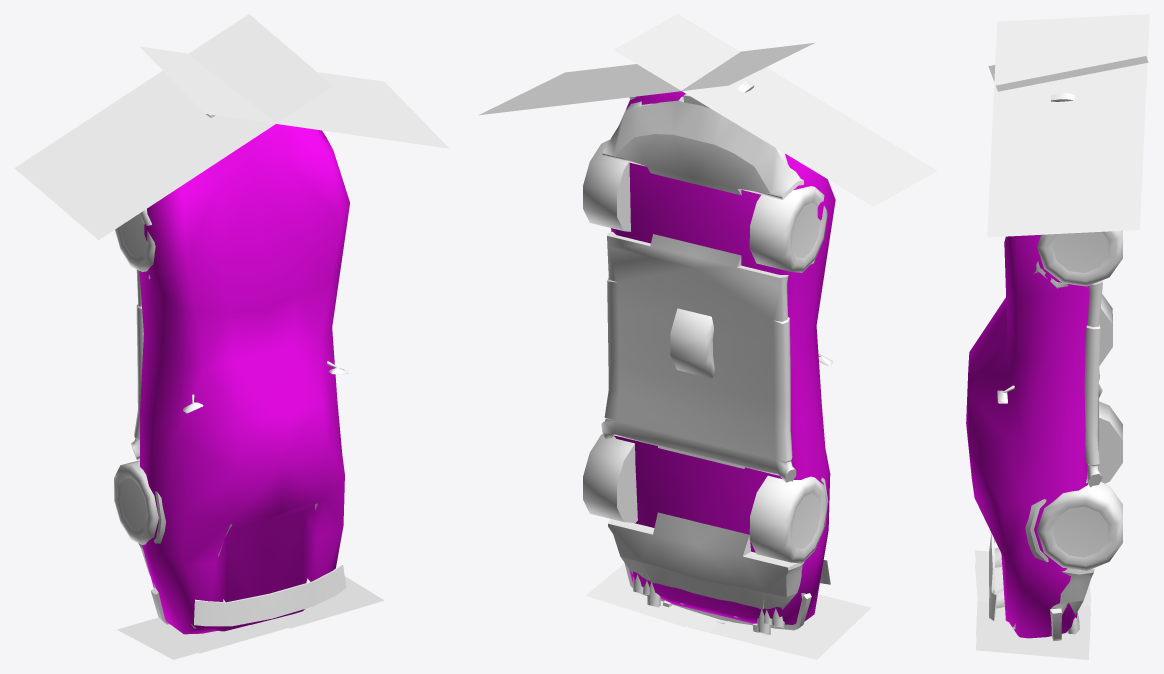
File: Corvette.glb
3 views of the same model, side by side, from view 1: azimuth 30°, elevation 25°; view 2: azimuth 150°, elevation 25°; view 3: azimuth 270°, elevation 25° (orthographic). The views are drawn at different scales.
Parts seen in each view (by area): view 1: CorvetteProxy, CorvetteFrontLights, CorvetteRearLights, CorvetteSpoiler1, CorvetteWheel_LB, Corvette, CorvetteWheel_LF; view 2: Corvette, CorvetteProxy, CorvetteFrontLights, CorvetteRearLights, CorvetteWheel_LB, CorvetteWheel_LF, CorvetteWheel_RB, CorvetteRearBumper2, CorvetteWheel_RF, CorvetteRims1, CorvetteRearBumper1; view 3: CorvetteFrontLights, CorvetteProxy, CorvetteWheel_RB, Corvette, CorvetteRearLights, CorvetteWheel_RF, CorvetteWheel_LB, CorvetteSpoiler1, CorvetteRims1, CorvetteRearBumper2.
Boxes of the visible parts, x1=… form: CorvetteProxy: x1=139, y1=124, x2=349, y2=634; CorvetteFrontLights: x1=14, y1=14, x2=448, y2=240; CorvetteRearLights: x1=117, y1=576, x2=384, y2=659; CorvetteSpoiler1: x1=194, y1=564, x2=346, y2=626; CorvetteWheel_LB: x1=114, y1=460, x2=158, y2=544; Corvette: x1=131, y1=269, x2=348, y2=628; CorvetteWheel_LF: x1=114, y1=209, x2=155, y2=271; Corvette: x1=601, y1=100, x2=833, y2=596; CorvetteProxy: x1=611, y1=91, x2=835, y2=624; CorvetteFrontLights: x1=479, y1=14, x2=937, y2=206; CorvetteRearLights: x1=586, y1=563, x2=871, y2=659; CorvetteWheel_LB: x1=749, y1=475, x2=827, y2=563; CorvetteWheel_LF: x1=749, y1=186, x2=827, y2=272; CorvetteWheel_RB: x1=583, y1=434, x2=637, y2=522; CorvetteRearBumper2: x1=624, y1=559, x2=811, y2=634; CorvetteWheel_RF: x1=583, y1=140, x2=630, y2=231; CorvetteRims1: x1=670, y1=308, x2=714, y2=378; CorvetteRearBumper1: x1=620, y1=556, x2=810, y2=626; CorvetteFrontLights: x1=987, y1=14, x2=1149, y2=237; CorvetteProxy: x1=966, y1=234, x2=1089, y2=638; CorvetteWheel_RB: x1=1037, y1=482, x2=1122, y2=570; Corvette: x1=997, y1=261, x2=1102, y2=629; CorvetteRearLights: x1=975, y1=550, x2=1091, y2=659; CorvetteWheel_RF: x1=1037, y1=230, x2=1122, y2=286; CorvetteWheel_LB: x1=1099, y1=401, x2=1122, y2=483; CorvetteSpoiler1: x1=989, y1=533, x2=1004, y2=620; CorvetteRims1: x1=1099, y1=294, x2=1112, y2=365; CorvetteRearBumper2: x1=1050, y1=600, x2=1083, y2=640.
Bounding box in the file's own units: 3.93 × 5.62 × 1.62.
